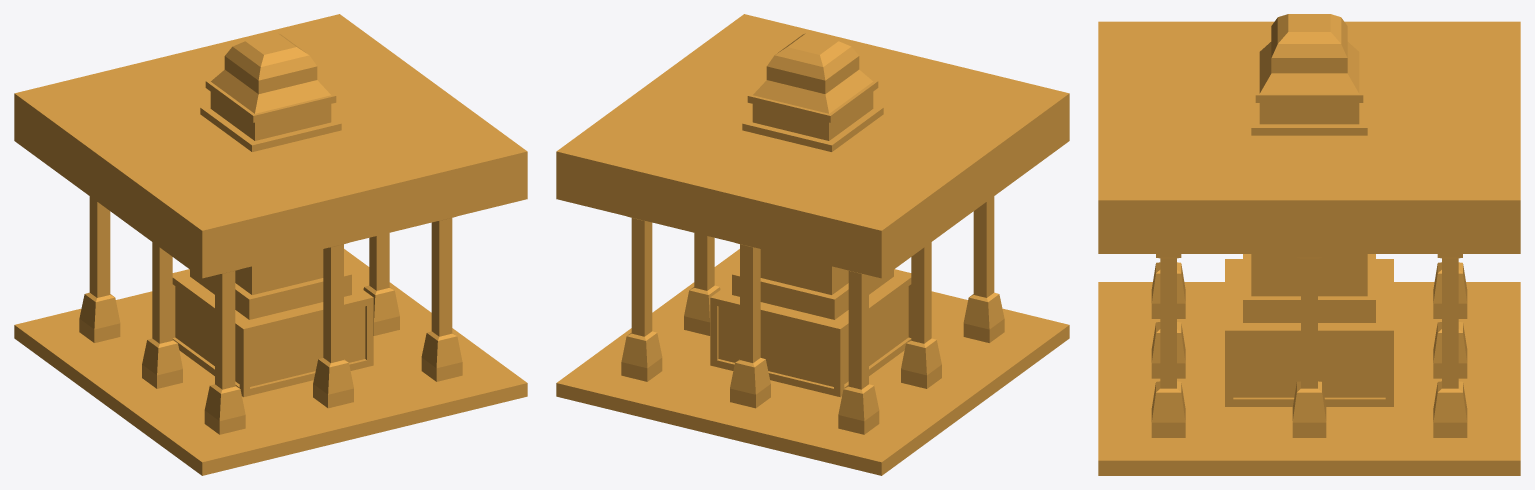
The model's file is hindu-pillars-middle-big.fbx.
The picture shows the model from 3 angles, left to right: view 1: azimuth 30°, elevation 25°; view 2: azimuth 150°, elevation 25°; view 3: azimuth 270°, elevation 25°; orthographic projection. The views are drawn at different scales.
Parts seen in each view (by area): view 1: hindu-pillars-middle-big; view 2: hindu-pillars-middle-big; view 3: hindu-pillars-middle-big.
Boxes of the visible parts, x1,y1,x2,y2 form: hindu-pillars-middle-big: (14,14,527,475); hindu-pillars-middle-big: (556,14,1069,475); hindu-pillars-middle-big: (1098,14,1520,475).
Size of the model in its own units: 5 by 4.75 by 5.
